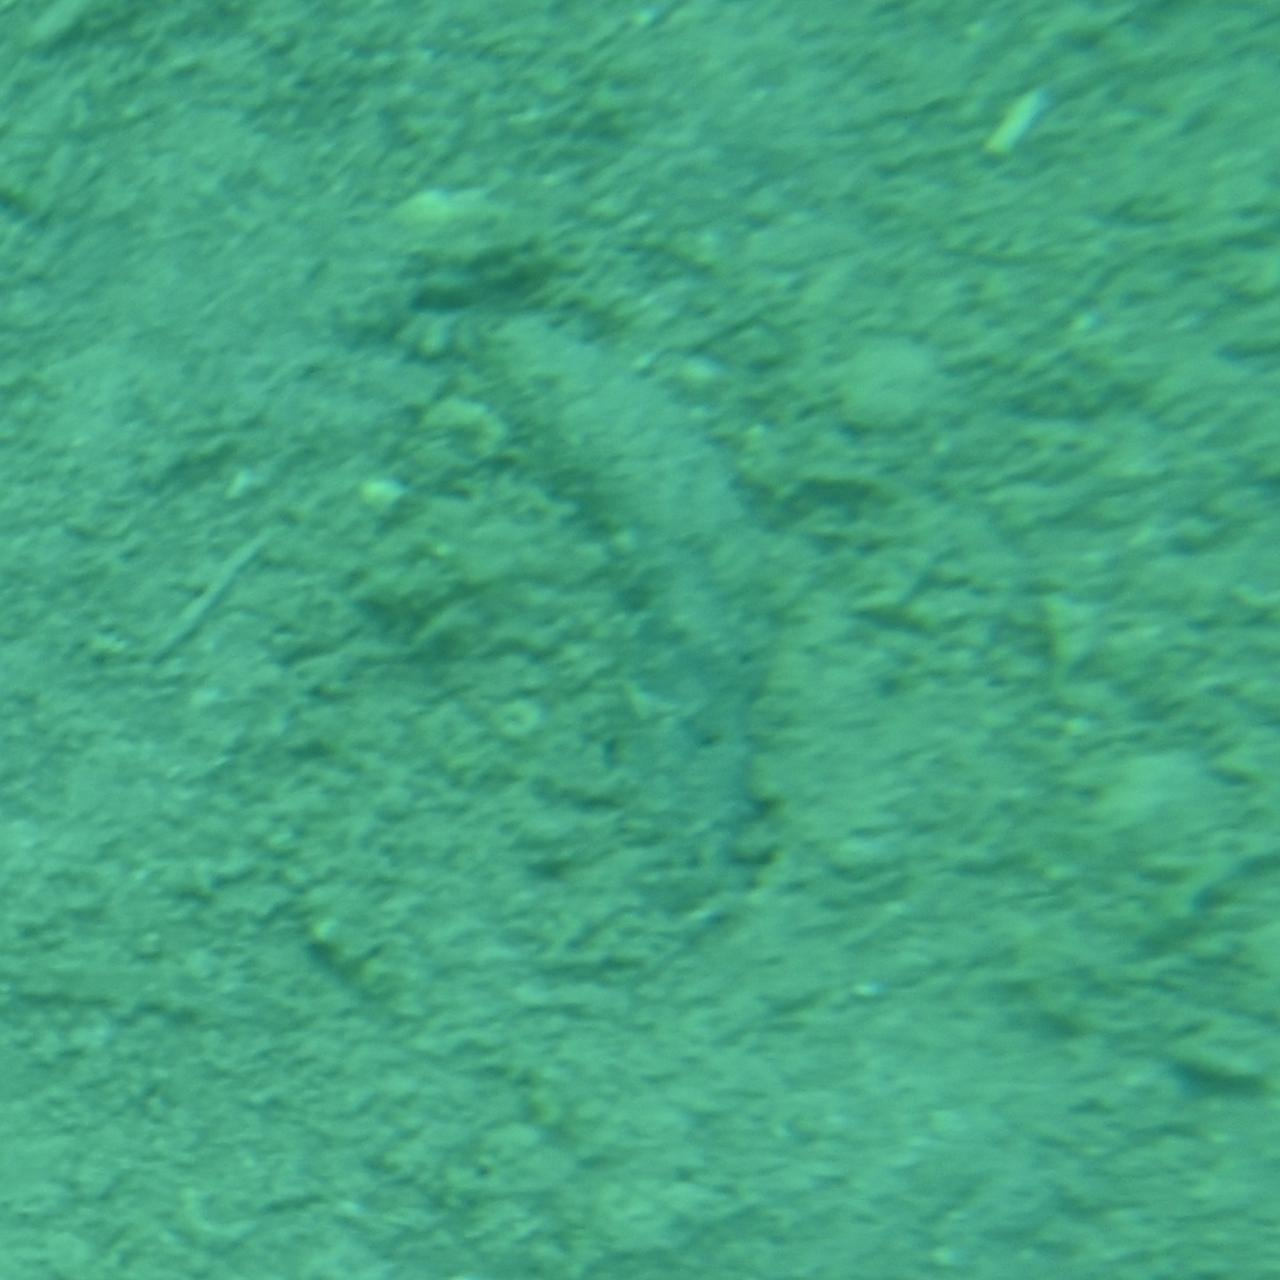Holothuria tubulosa: (503, 310, 777, 970)
